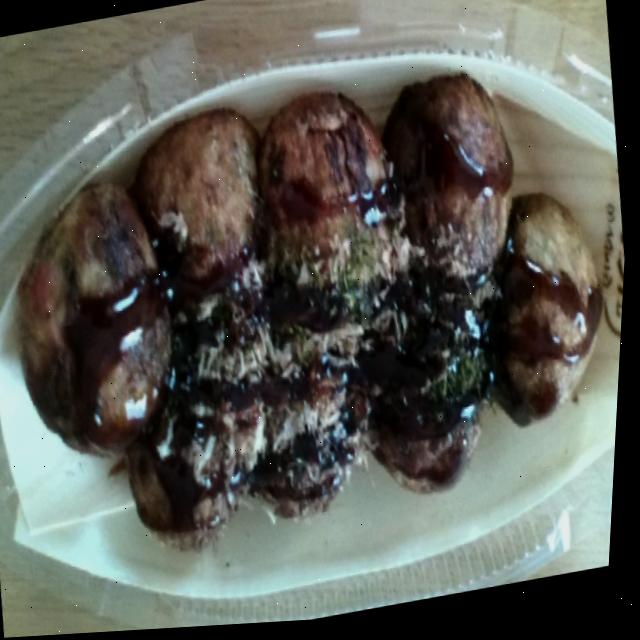炸货点心: (0, 34, 637, 629)
